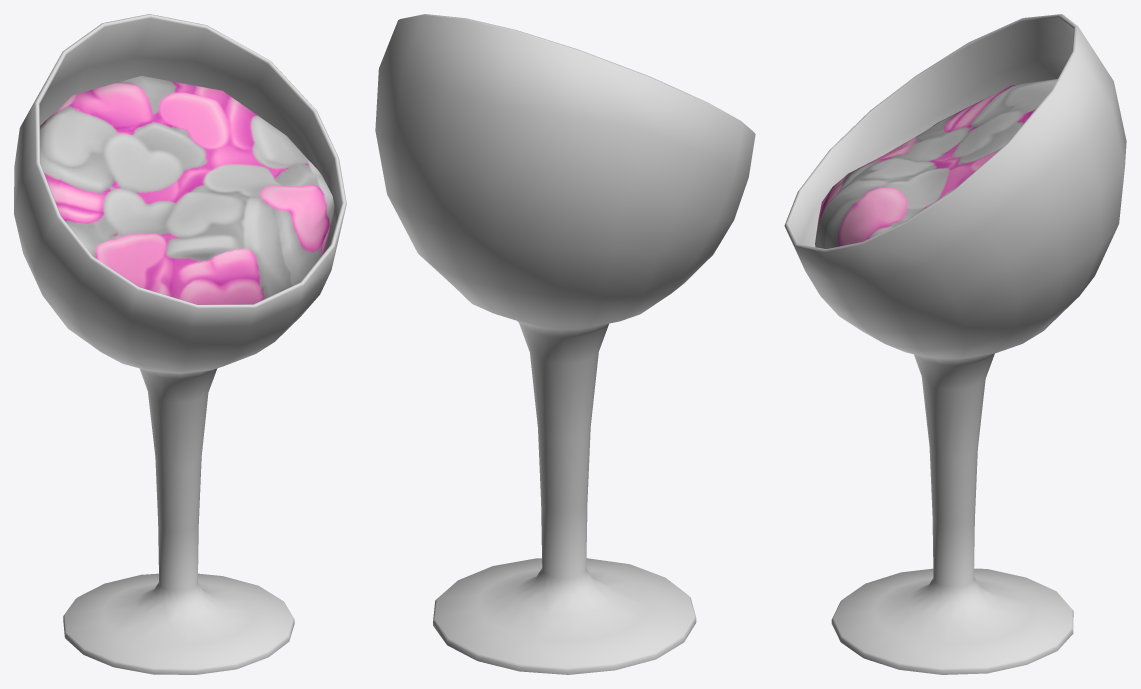
Rendered from BuffetCandy01_1.FBX.
3 views of the same model, side by side, from view 1: azimuth 30°, elevation 25°; view 2: azimuth 150°, elevation 25°; view 3: azimuth 270°, elevation 25° (orthographic). The views are drawn at different scales.
Parts seen in each view (by area): view 1: BuffetCandy01_1; view 2: BuffetCandy01_1; view 3: BuffetCandy01_1.
Part boxes in pixels (x1,y1,x2,y2): BuffetCandy01_1: (14,14,346,674); BuffetCandy01_1: (375,14,755,674); BuffetCandy01_1: (784,14,1126,674).
Size of what is drawn, in the model's own units: 0.1952 by 0.3674 by 0.1934.
